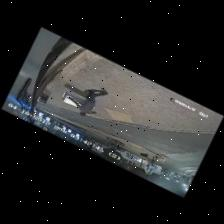person: (71, 89, 108, 115)
